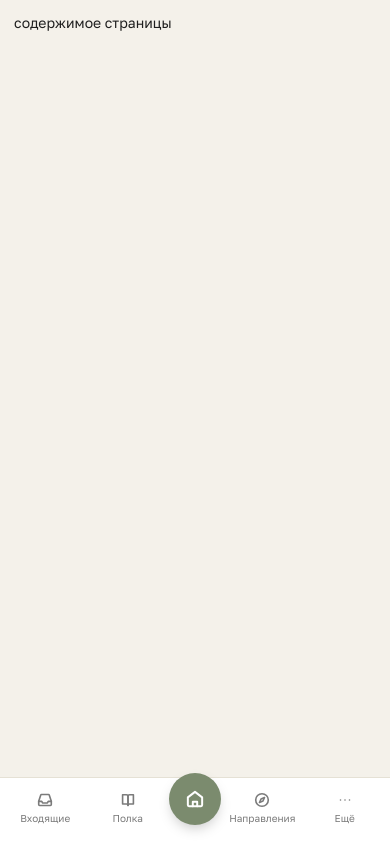
Test: «Ещё»: счётчик напоминаний — кружок на иконке › лежит внутри .ic-wrap рядом со значком, а не отдельным числом
This screenshot has width=390, height=844.
Click the button "Ещё" at point(345, 808), box [304,786,386,830]
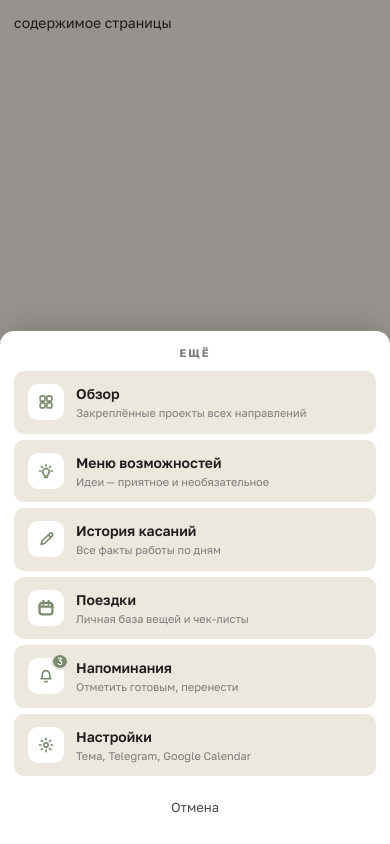
Expected: the button "Напоминания" is shown, [14,645,376,708]
Expected: the element with class "ic-wrap" showing "3" is shown, [28,658,64,694]
Expected: the text with class "ct-badge" reads "3", [57,655,63,668]
